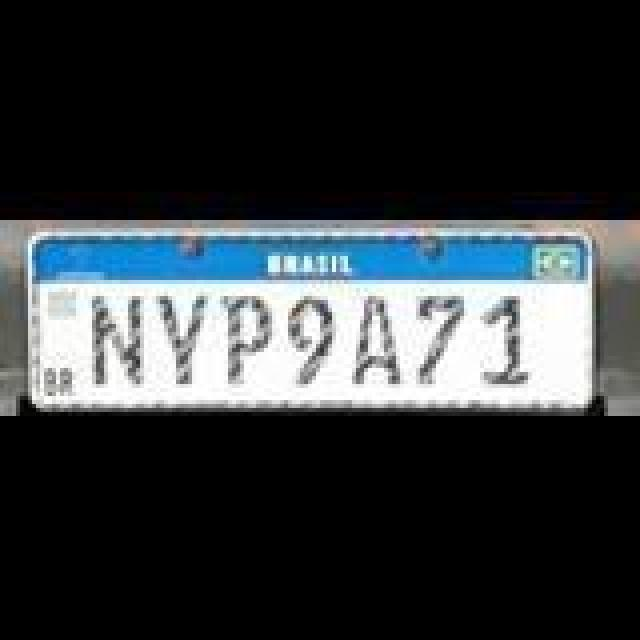1: (472, 286, 536, 386)
7: (410, 286, 470, 386)
9: (276, 290, 340, 398)
A: (342, 284, 410, 396)
N: (86, 294, 154, 394)
P: (216, 282, 280, 390)
Y: (160, 286, 216, 386)
